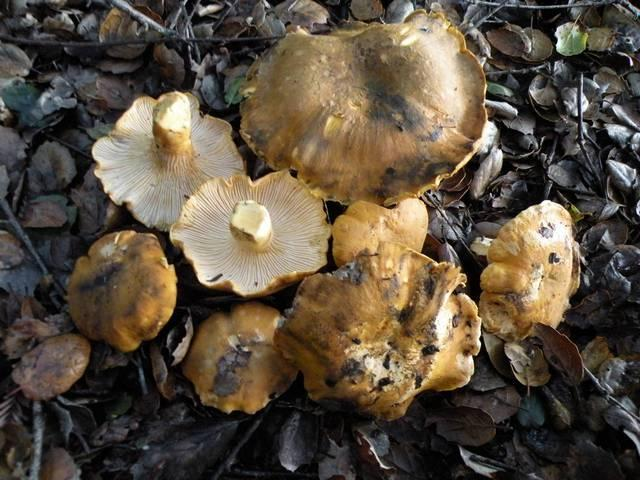edible_mushroom: (237, 8, 489, 206), (273, 241, 482, 421), (90, 89, 245, 230), (168, 168, 331, 297), (477, 198, 581, 343), (65, 228, 177, 352)
